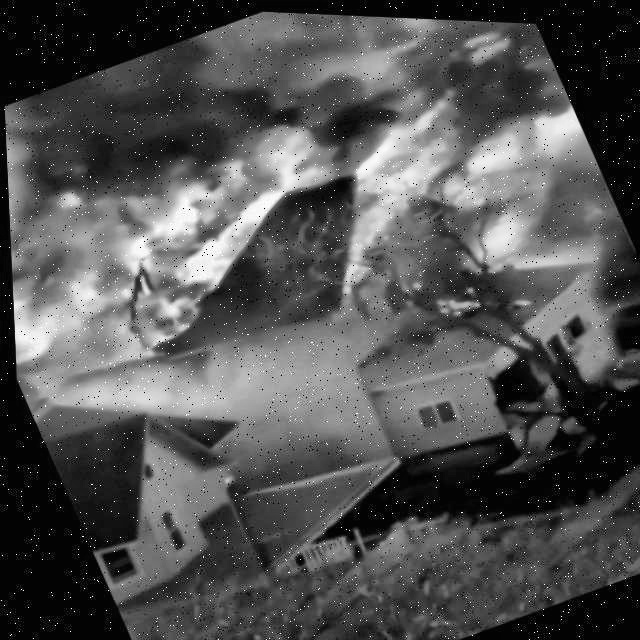Fire: (2, 65, 375, 417), (302, 25, 570, 277)
Smoke: (0, 0, 459, 259)
